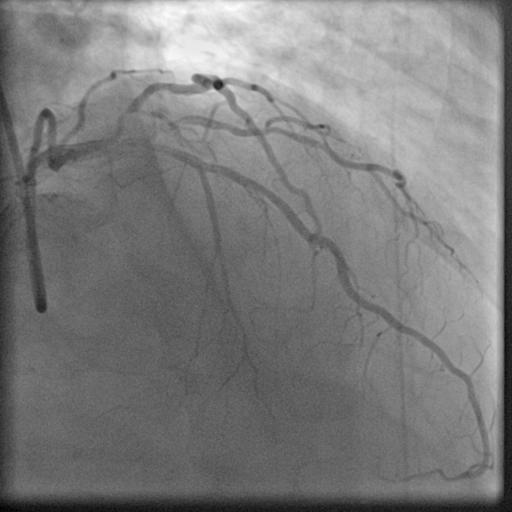Stenosis: (109, 102, 132, 129)
